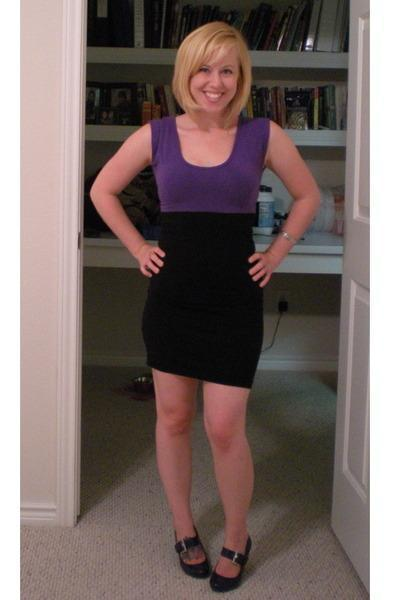dress: (142, 112, 271, 387)
shoe: (175, 540, 256, 592)
